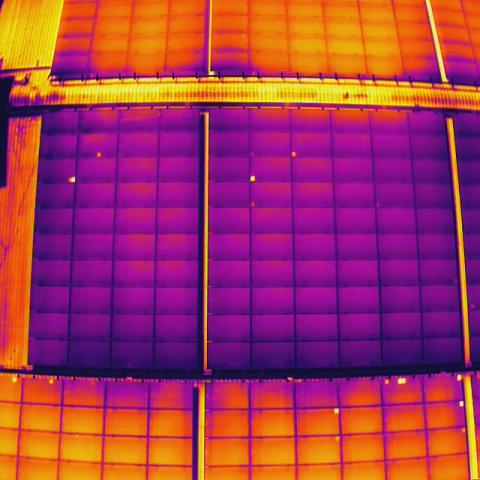fault: (397, 377, 407, 386), (248, 173, 257, 182), (332, 407, 340, 417), (455, 373, 463, 383), (290, 149, 298, 158), (248, 149, 256, 158), (460, 426, 468, 435), (10, 375, 18, 384), (451, 277, 459, 286), (458, 399, 465, 409), (48, 375, 55, 385), (249, 200, 256, 209), (334, 435, 341, 444), (95, 150, 102, 159), (469, 303, 477, 310), (375, 201, 381, 210), (384, 378, 390, 385), (71, 176, 75, 184), (66, 177, 70, 183)
